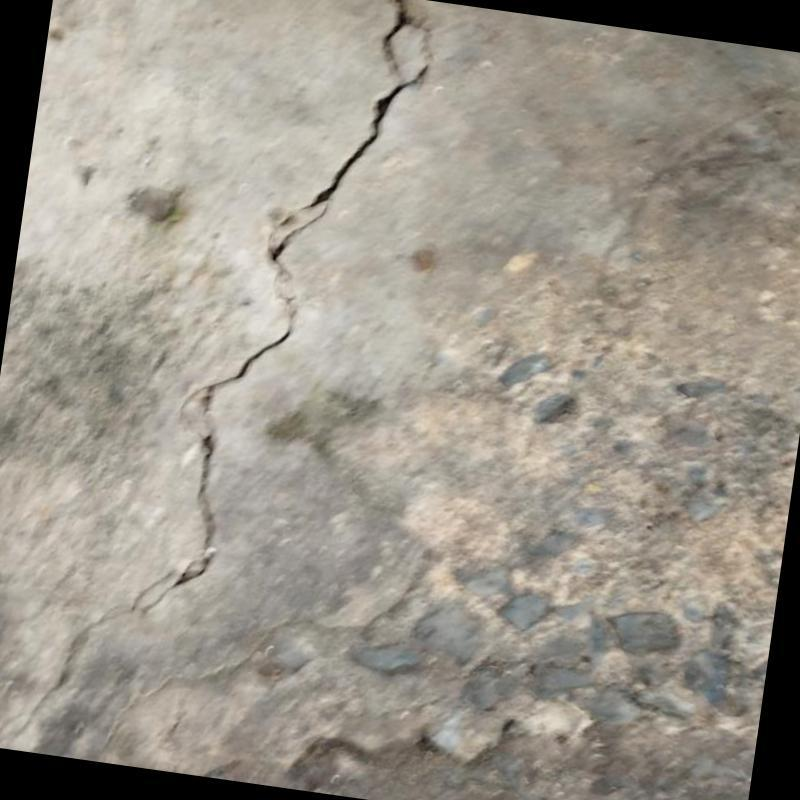pothole: (23, 0, 427, 727)
